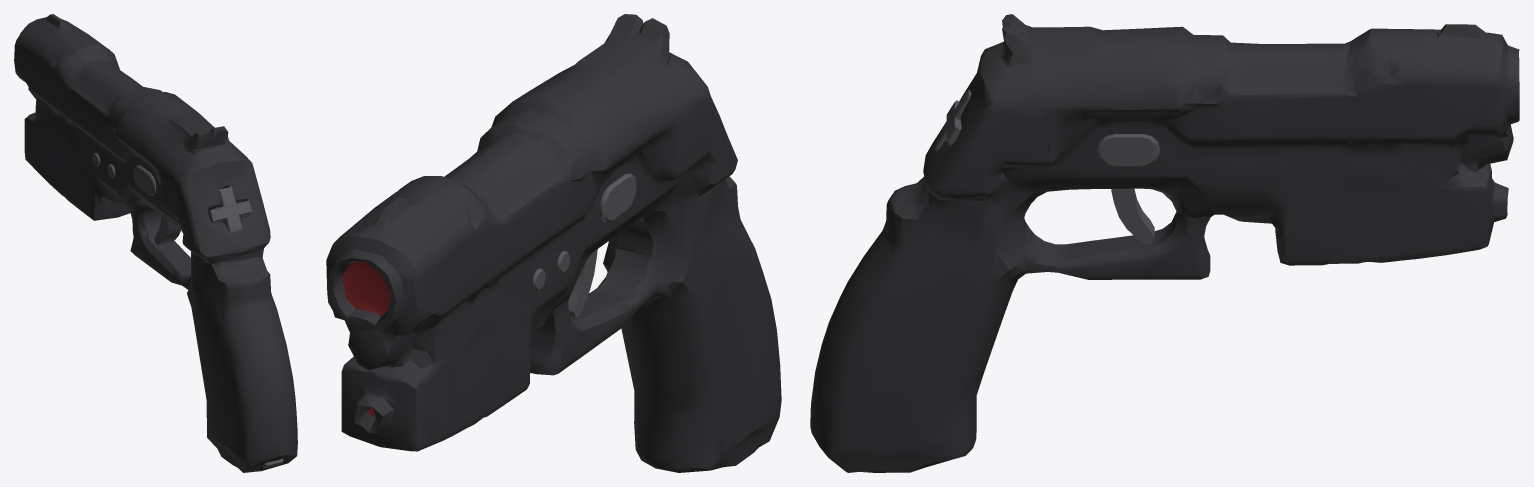
The model's file is guncon2.glb.
3 renders of one model, left to right at view 1: azimuth 30°, elevation 25°; view 2: azimuth 150°, elevation 25°; view 3: azimuth 270°, elevation 25°, orthographic. The views are drawn at different scales.
Parts seen in each view (by area): view 1: body, dpad, button_left, trigger; view 2: body, button_left, trigger; view 3: body, button_right, trigger, dpad.
Boxes of the visible parts, x1=… form: body: x1=14, y1=14, x2=297, y2=472; dpad: x1=208, y1=186, x2=252, y2=233; button_left: x1=133, y1=165, x2=156, y2=195; trigger: x1=154, y1=215, x2=180, y2=245; body: x1=326, y1=14, x2=781, y2=472; button_left: x1=599, y1=173, x2=636, y2=222; trigger: x1=568, y1=249, x2=597, y2=317; body: x1=810, y1=14, x2=1519, y2=472; button_right: x1=1097, y1=134, x2=1160, y2=166; trigger: x1=1111, y1=188, x2=1154, y2=244; dpad: x1=937, y1=89, x2=971, y2=150.
Size of the model in its own units: 0.04 by 0.1541 by 0.2269.
